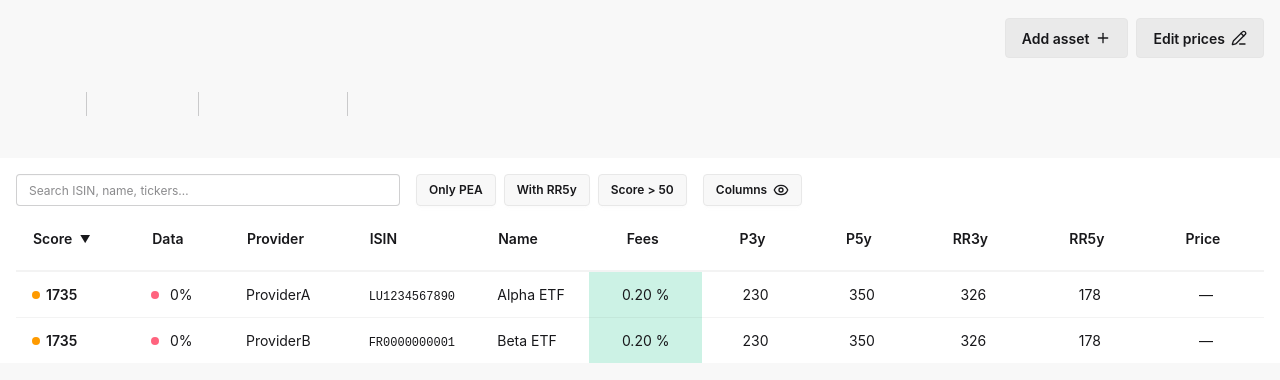
Test: AssetTable - filter › filter input change narrows displayed rows
Type "Alpha" into the search field with placeholder "Search ISIN, name, tickers…" at (208, 190), box [16,174,400,206]
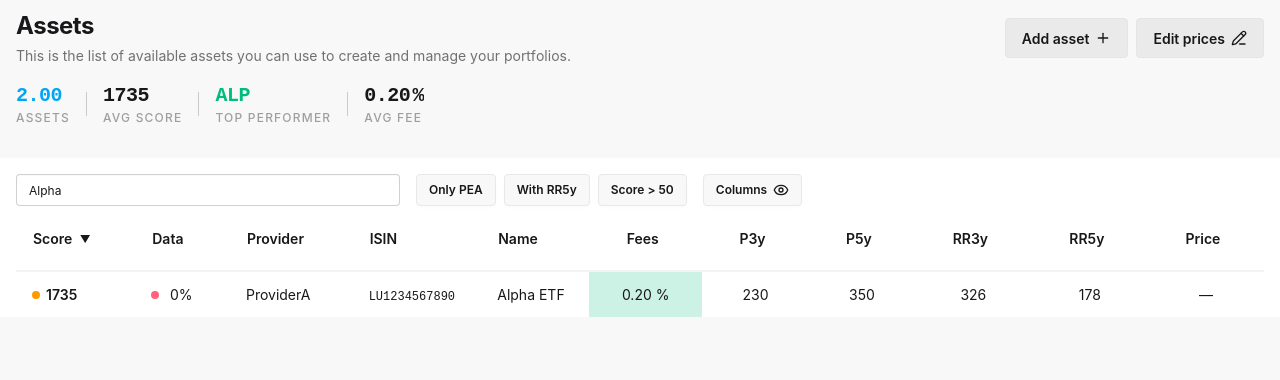
Check: the row with test id "asset-row-LU1234567890" shows "Alpha ETF", box [497,286,565,303]
Check: the row with test id "asset-row-FR0000000001" is gone
